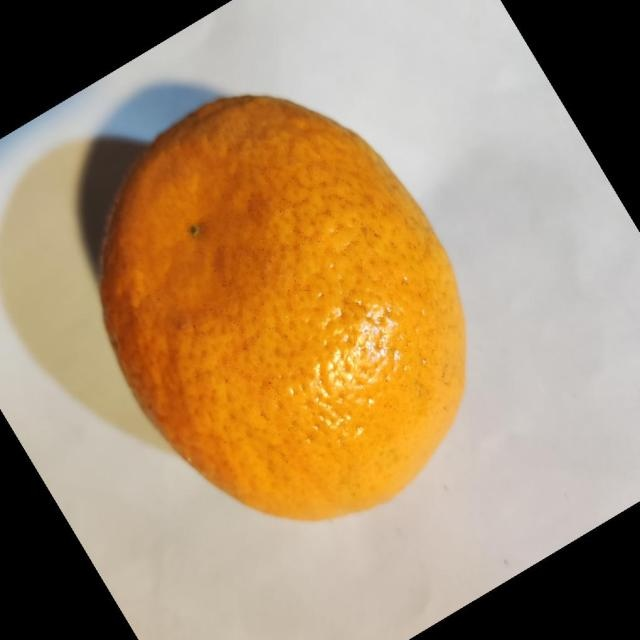agrume: (97, 93, 468, 522)
